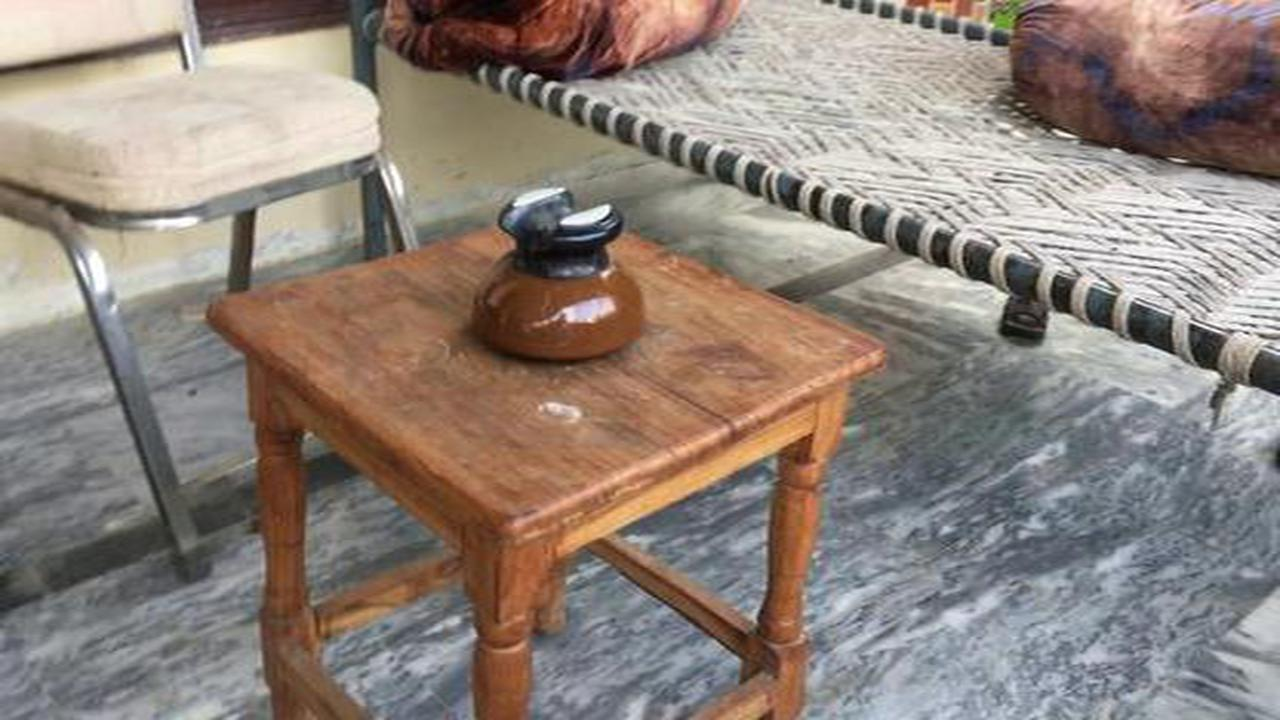insulator_pin: (444, 176, 671, 374)
